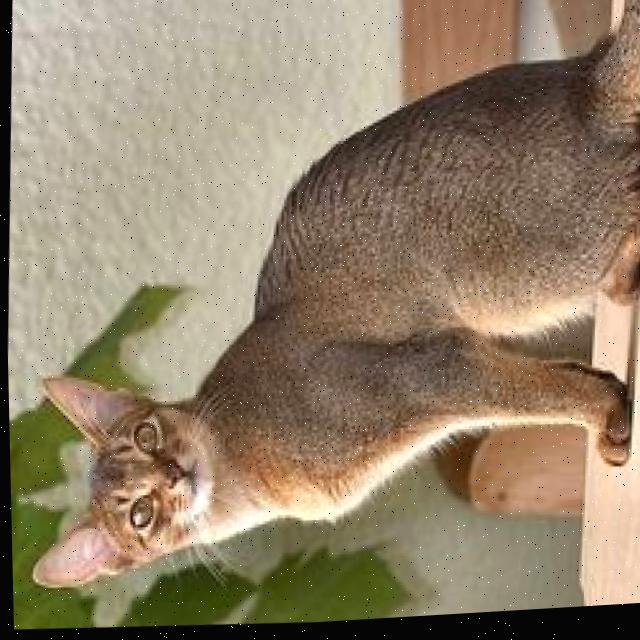Abyssinian: (13, 0, 640, 612)
